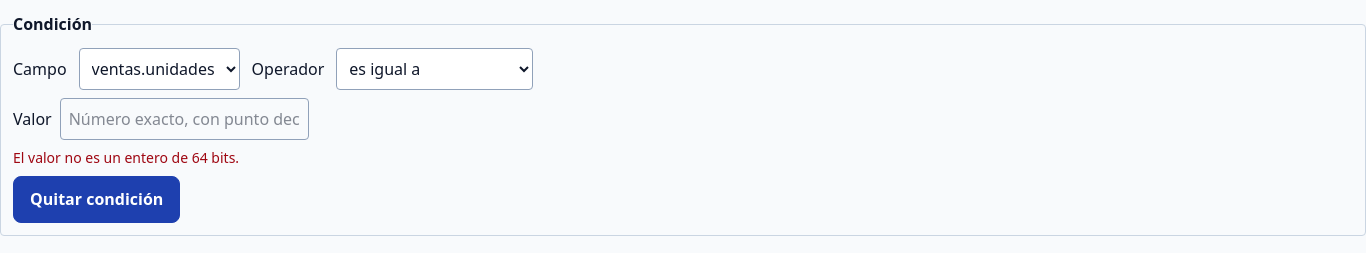
a condition on a field the session may filter › keeps INT64 and DECIMAL exact as text, never a Number
Type "9007199254740993" into the field labelled "Valor" at (184, 119), box [60,98,309,140]
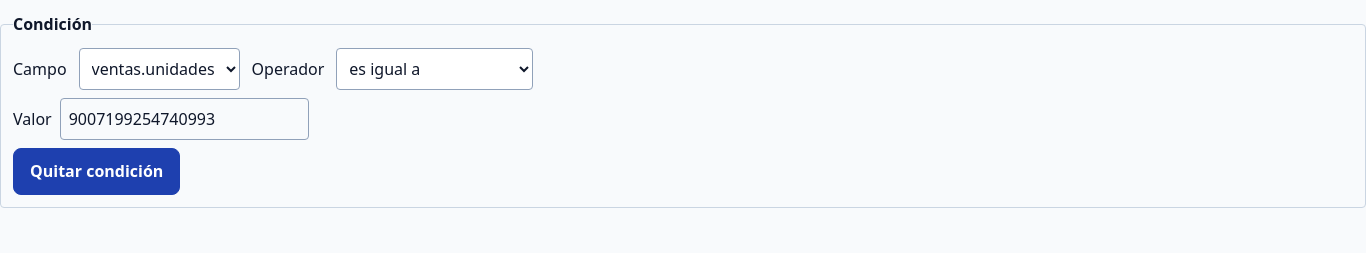
Replace the text in the field labelled "Valor" with "-9223372036854775808" at (184, 119), box [60,98,309,140]
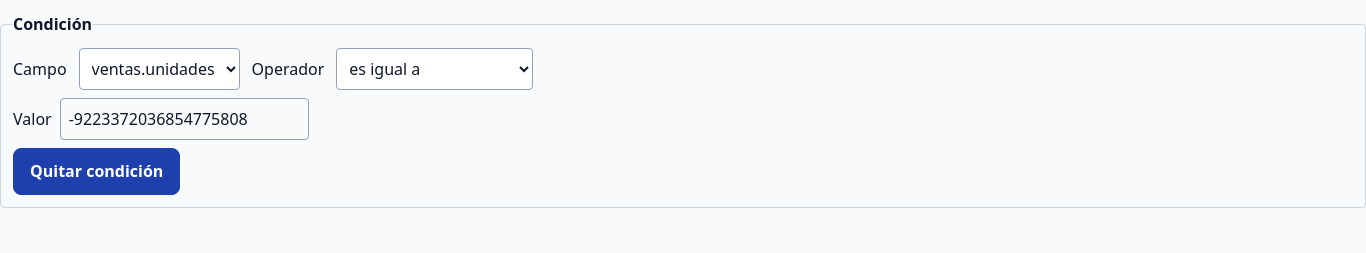
Replace the text in the field labelled "Valor" with "9223372036854775807" at (184, 119), box [60,98,309,140]
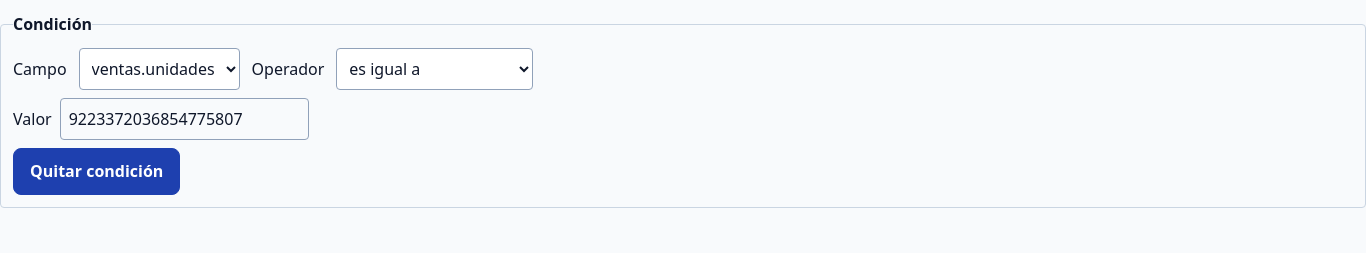
Replace the text in the field labelled "Valor" with "9223372036854775808" at (184, 119), box [60,98,309,140]
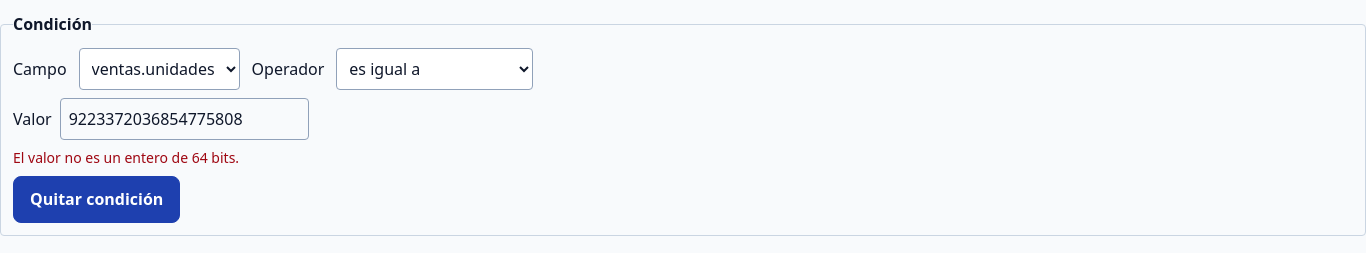
Expected: the text "entero de 64 bits" is shown, [13,148,239,167]
